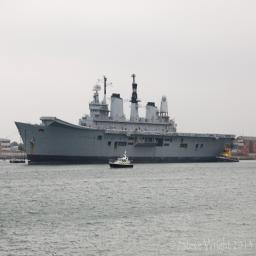Portanaves: (15, 70, 238, 167)
